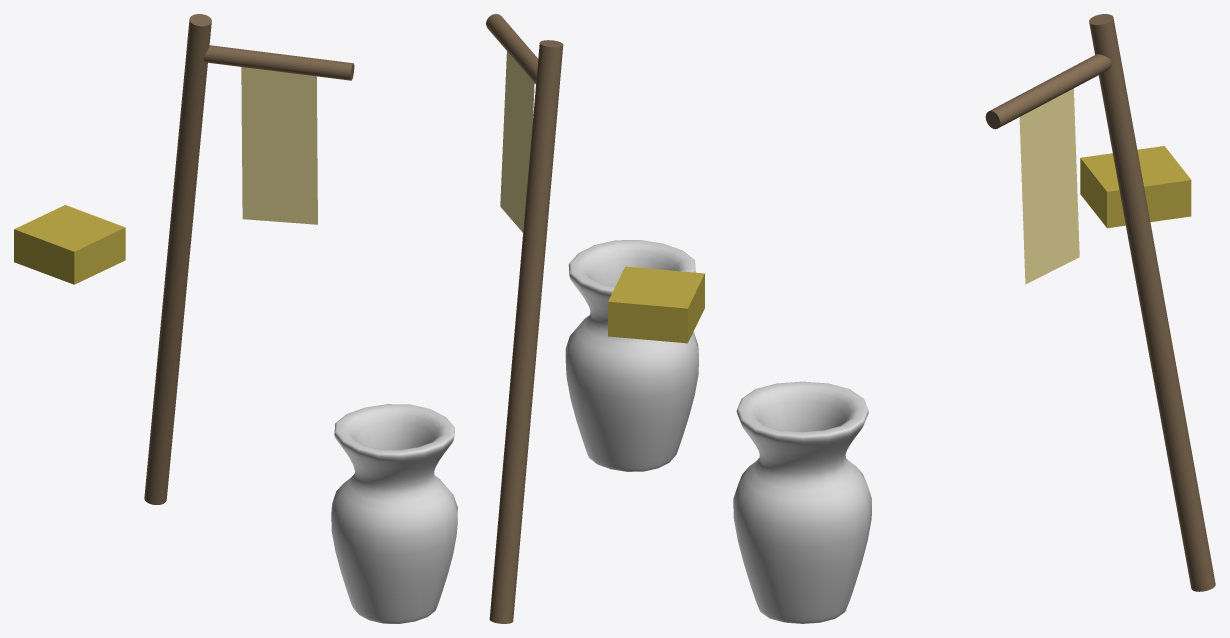
File: Jarron.fbx
3 views of the same model, side by side, from view 1: azimuth 30°, elevation 25°; view 2: azimuth 150°, elevation 25°; view 3: azimuth 270°, elevation 25° (orthographic). The views are drawn at different scales.
Visible parts, largest first — view 1: Cylinder.001, jarron, MijoCaja; view 2: jarron, Cylinder.001, MijoCaja; view 3: jarron, Cylinder.001, MijoCaja.
Boxes of the visible parts, <box> form: Cylinder.001: <box>144,14,354,504</box>; jarron: <box>331,404,457,623</box>; MijoCaja: <box>14,205,125,284</box>; jarron: <box>565,240,698,471</box>; Cylinder.001: <box>486,14,563,623</box>; MijoCaja: <box>608,266,704,343</box>; jarron: <box>733,381,871,623</box>; Cylinder.001: <box>985,14,1215,591</box>; MijoCaja: <box>1080,146,1191,228</box>.
Size of the model in its own units: 1.05 by 1.9 by 1.46.
